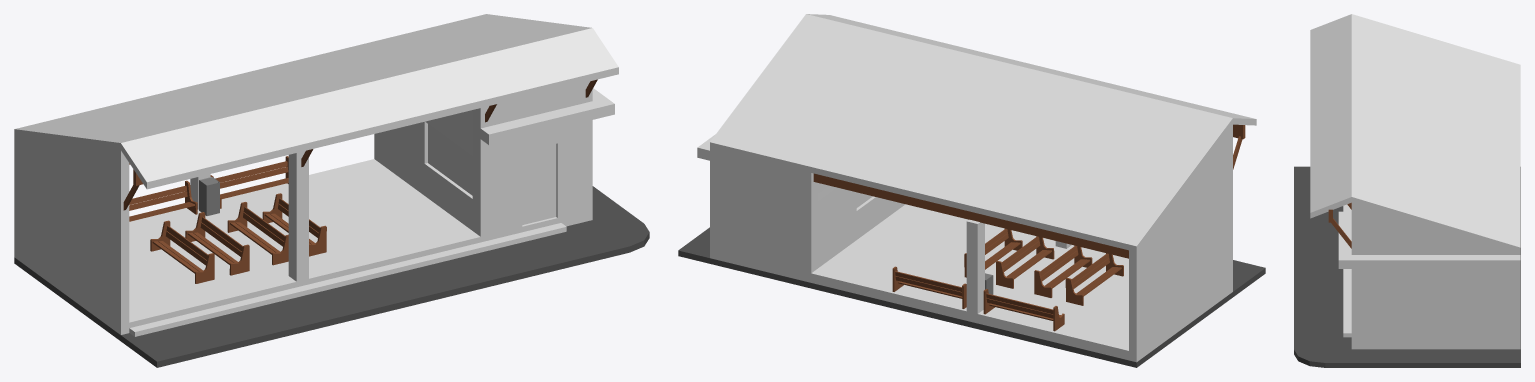
File: Rodoviaria.fbx
The picture shows the model from 3 angles, left to right: view 1: azimuth 30°, elevation 25°; view 2: azimuth 150°, elevation 25°; view 3: azimuth 270°, elevation 25°; orthographic projection. The views are drawn at different scales.
Parts seen in each view (by area): view 1: Rodoviaria_Base, Calcada, Cube.002, Cube.003, Cube.004, Cube.007, Cube.006, Cube.001, Bebedouro, Rodoviaria_Madeira; view 2: Rodoviaria_Base, Calcada, Rodoviaria_Madeira, Cube.003, Cube.004, Cube.002, Cube.006, Cube.007, Cube.001; view 3: Rodoviaria_Base, Calcada, Rodoviaria_Madeira.
Boxes of the visible parts, x1,y1,x2,y2 form: Rodoviaria_Base: (14, 14, 618, 336); Calcada: (14, 186, 649, 367); Cube.002: (150, 220, 214, 283); Cube.003: (185, 212, 249, 275); Cube.004: (227, 202, 288, 265); Cube.007: (210, 156, 288, 208); Cube.006: (129, 180, 197, 221); Cube.001: (262, 193, 326, 256); Bebedouro: (199, 177, 219, 215); Rodoviaria_Madeira: (123, 79, 597, 210); Rodoviaria_Base: (697, 14, 1256, 362); Calcada: (678, 227, 1265, 367); Rodoviaria_Madeira: (813, 124, 1245, 258); Cube.003: (1034, 245, 1092, 297); Cube.004: (996, 236, 1054, 288); Cube.002: (1065, 253, 1123, 305); Cube.006: (983, 289, 1064, 331); Cube.007: (892, 266, 966, 308); Cube.001: (964, 228, 1022, 277); Rodoviaria_Base: (1310, 14, 1520, 349); Calcada: (1294, 166, 1520, 367); Rodoviaria_Madeira: (1328, 202, 1351, 248).
Bounding box in the file's own units: 1101 × 411 × 537.
